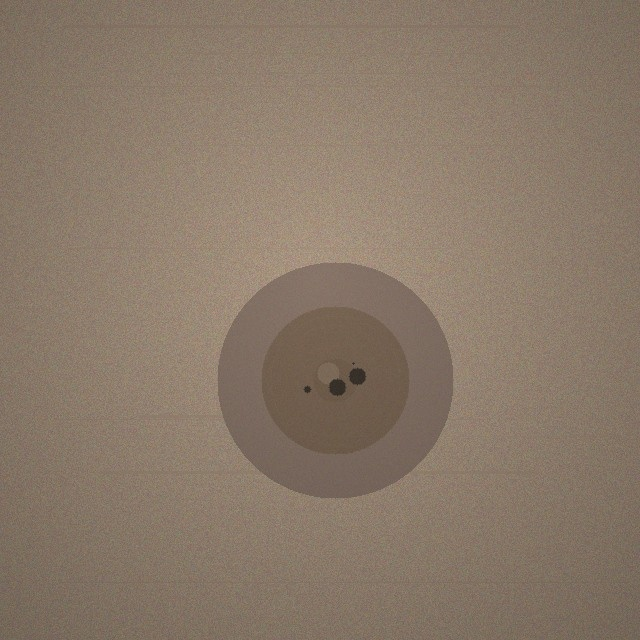shrinkage: (217, 262, 453, 498)
